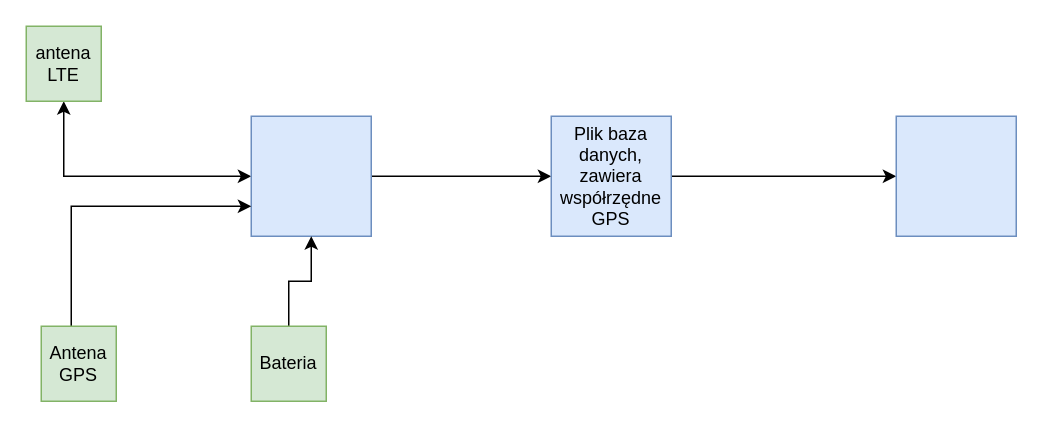
The diagram is 1043 pixels wide and 428 high, and some of its shapes have lost their labels. The shapes that lost their labels are listed below. From the top down, each one's centre as x and y in pixels, then its label:
pixel 310 175: Modem + GPS
pixel 955 175: Strona www, pokazująca mape
